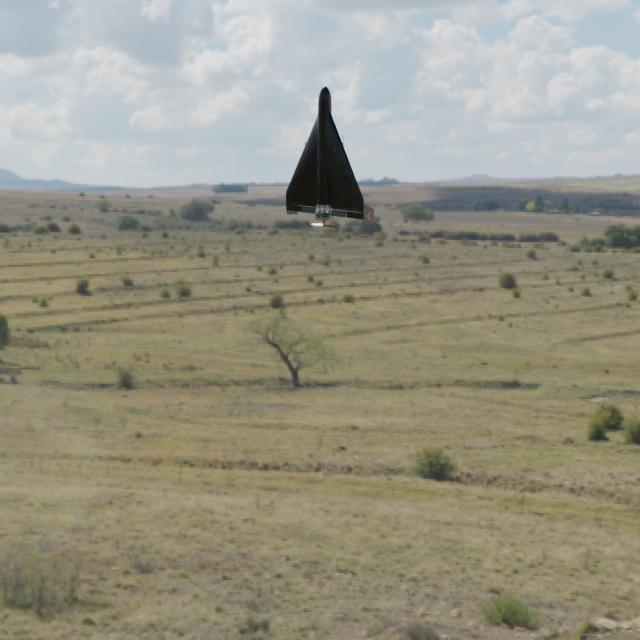Airaplan: (286, 86, 374, 228)
